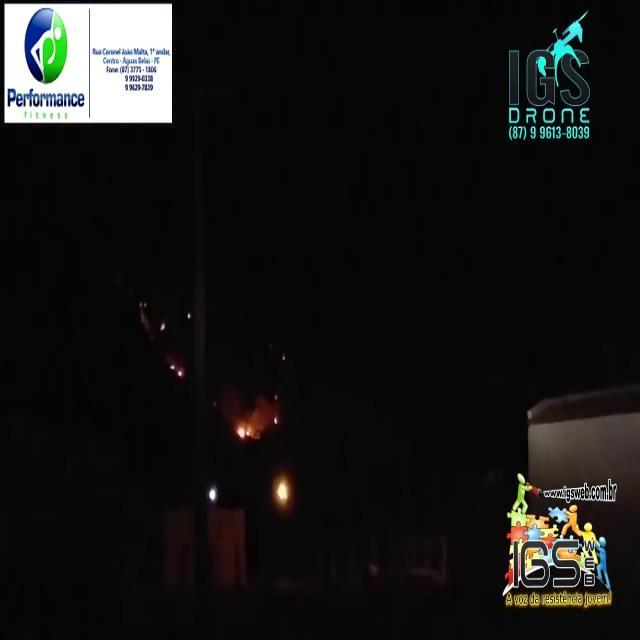Fire: (237, 425, 251, 440)
Smoke: (213, 374, 246, 414), (254, 392, 278, 422)
